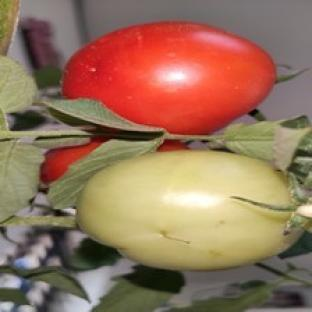Tomato: (77, 151, 300, 270), (62, 23, 275, 133), (41, 137, 107, 183)
